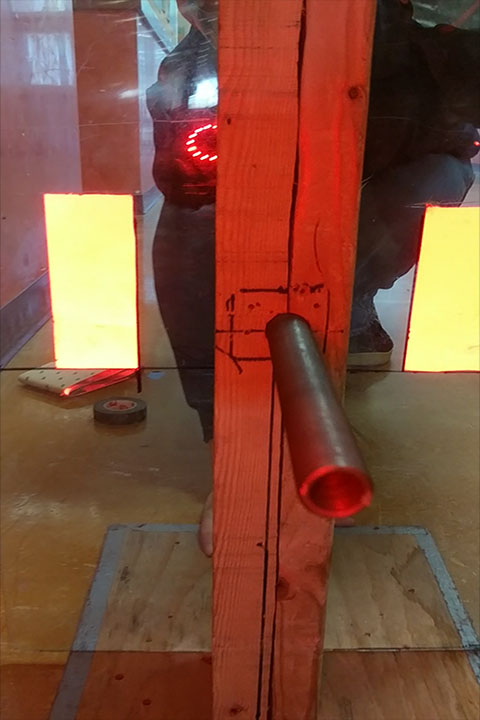gear: (41, 193, 139, 371), (402, 203, 480, 371)
